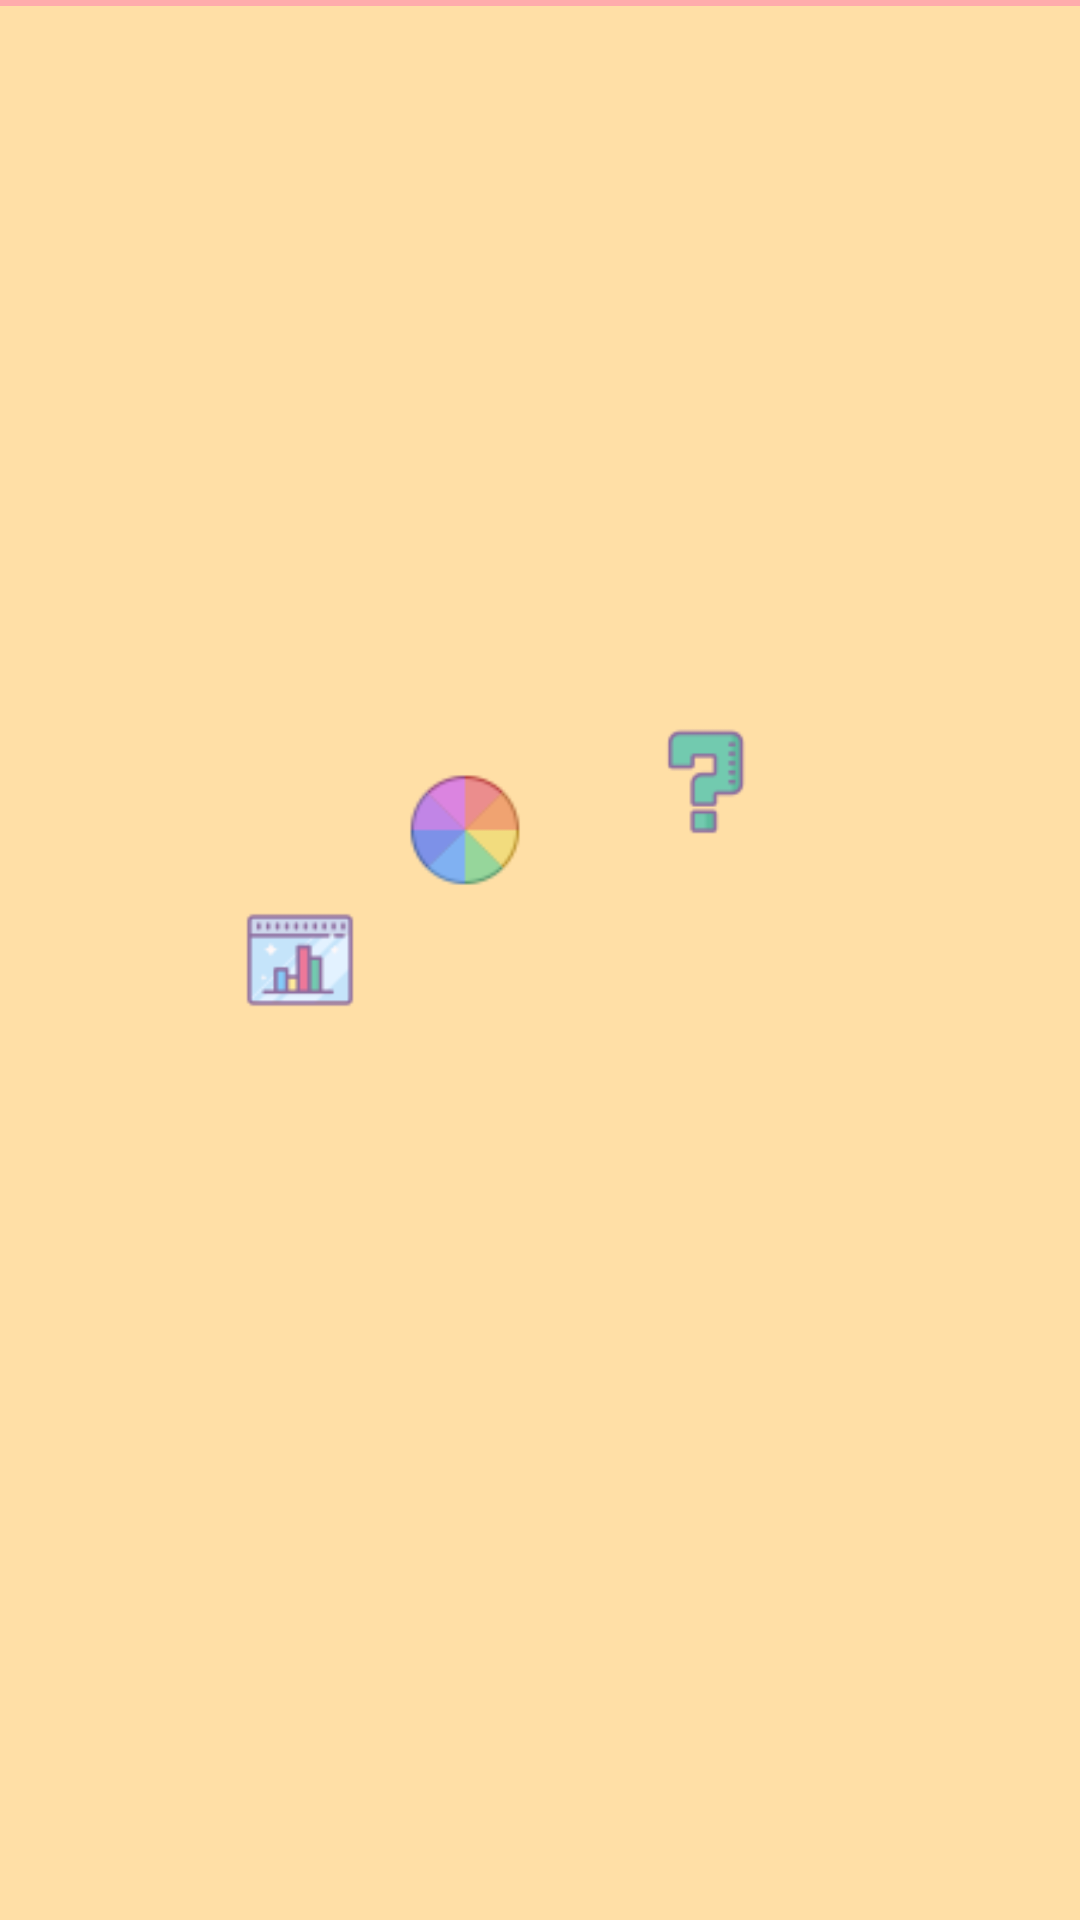

Icons on this 1080px x 1920px Android screen, each with its box as box(x1, y1, x2, y2):
info: box(668, 730, 744, 833)
statistic: box(247, 914, 353, 1006)
